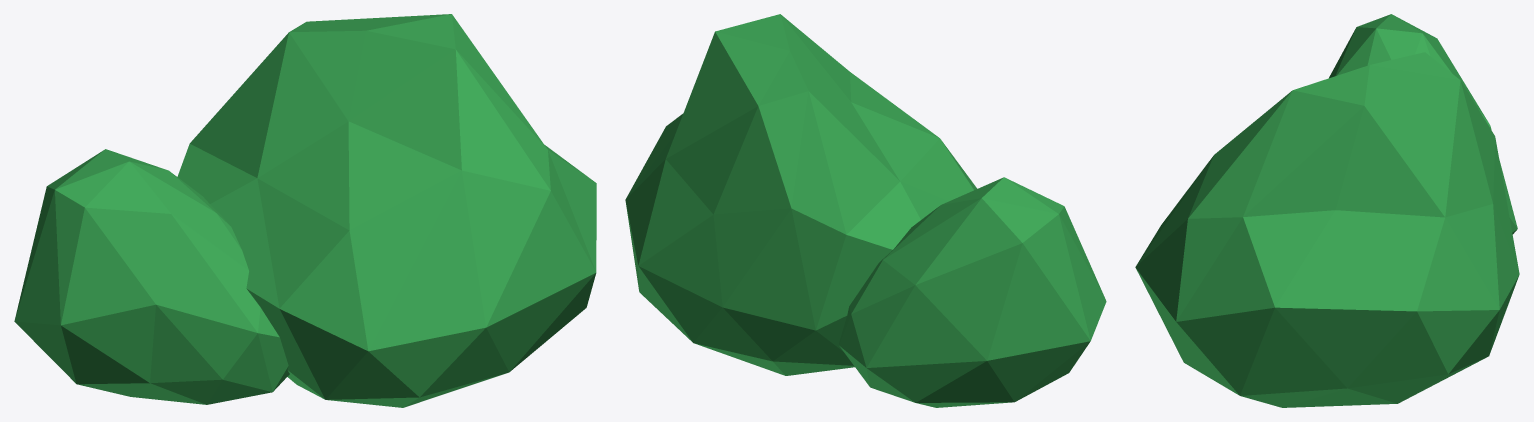
The model's file is Bush_green.fbx.
3 renders of one model, left to right at view 1: azimuth 30°, elevation 25°; view 2: azimuth 150°, elevation 25°; view 3: azimuth 270°, elevation 25°, orthographic. The views are drawn at different scales.
Parts seen in each view (by area): view 1: Bush; view 2: Bush; view 3: Bush.
Boxes of the visible parts, x1,y1,x2,y2 form: Bush: (14,14,596,407); Bush: (625,14,1106,407); Bush: (1135,14,1519,407).
Size of the model in its own units: 147 by 90.44 by 96.69.
